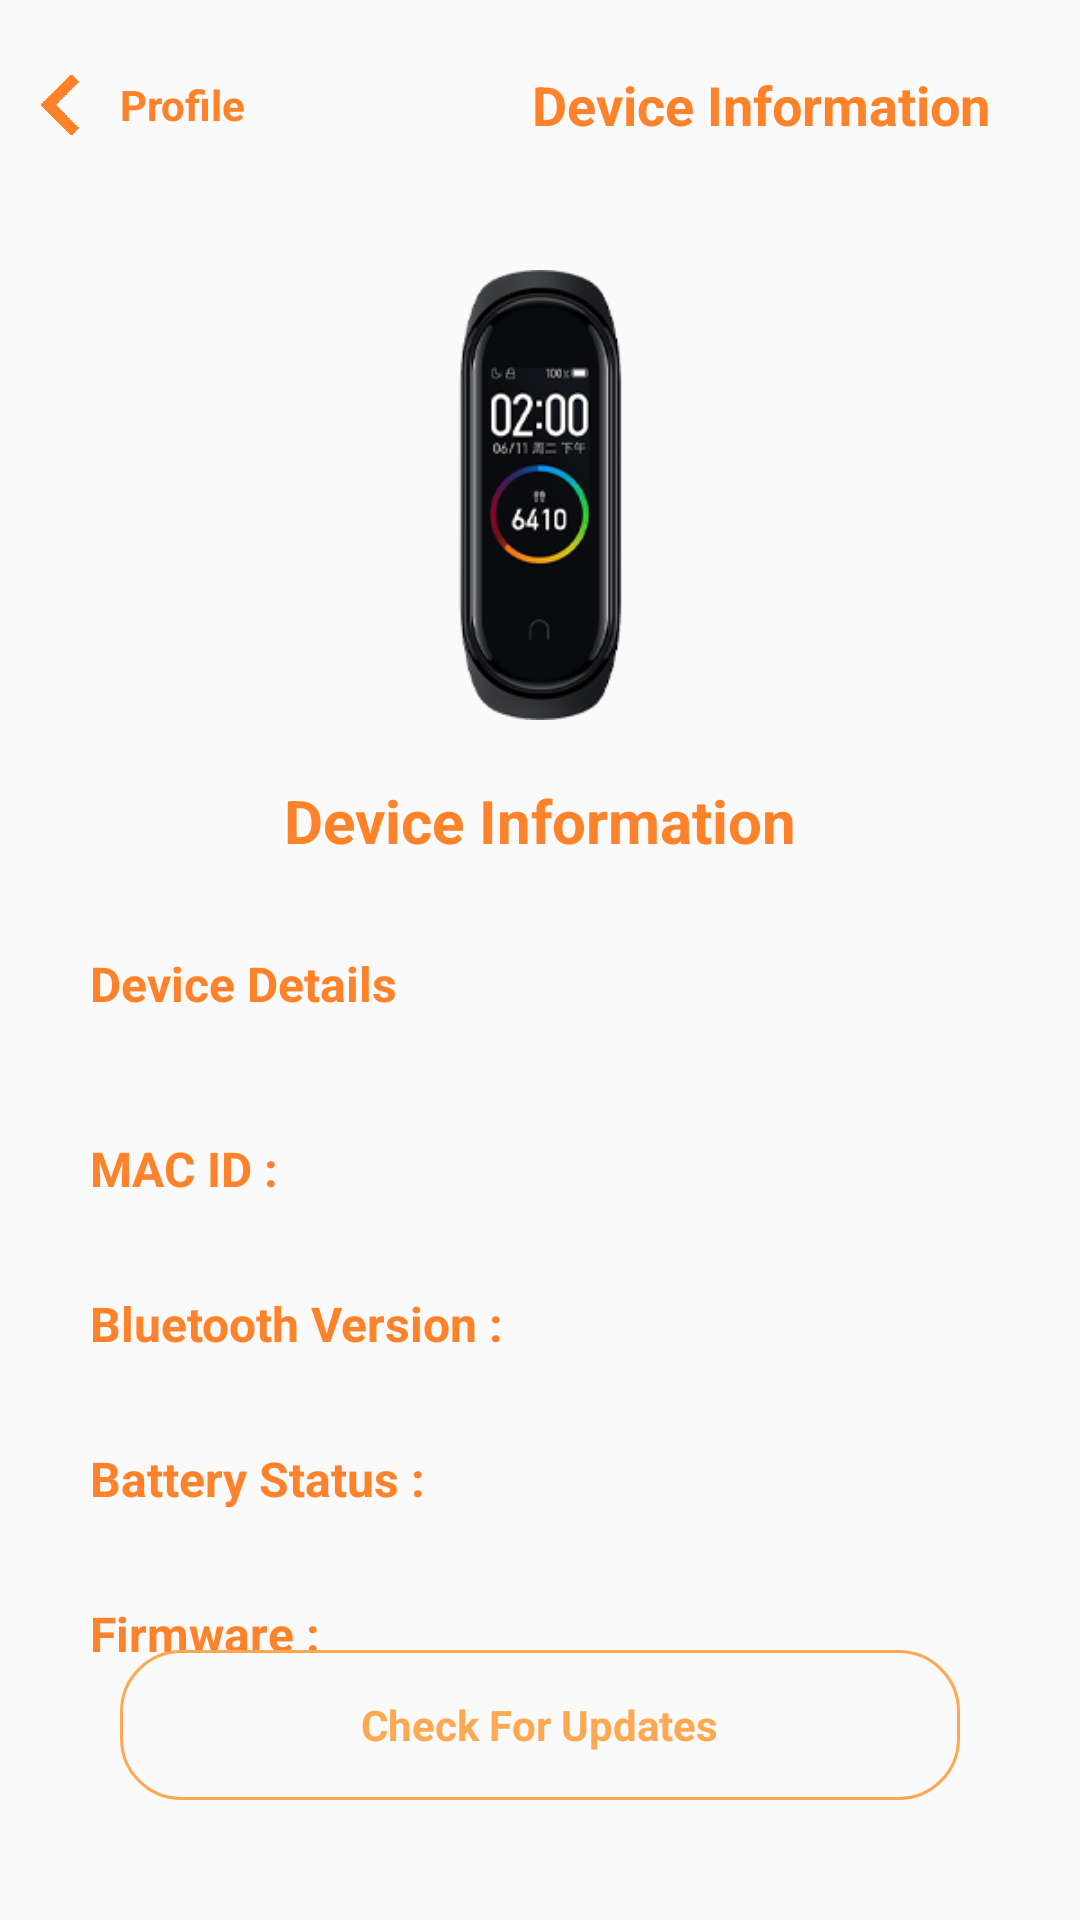

Icon click points for this 1080x1920 phone screenshot, format (x,y):
back: (60,105)
